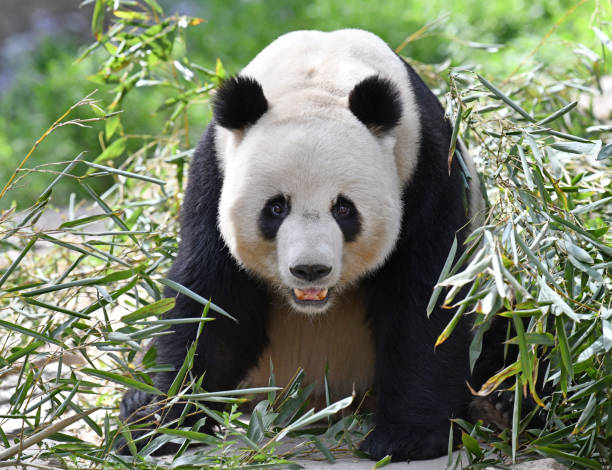panda: (180, 60, 440, 329)
